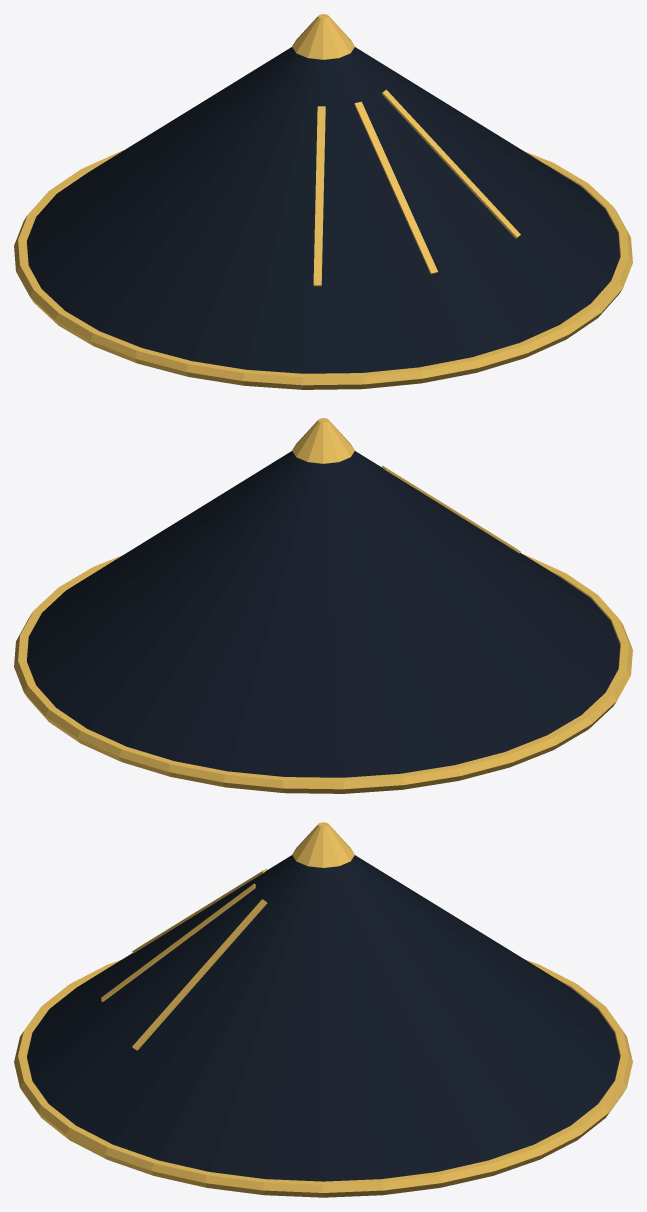
File: lacquer-non-la.glb
3 renders of one model, top to bottom at view 1: azimuth 30°, elevation 25°; view 2: azimuth 150°, elevation 25°; view 3: azimuth 270°, elevation 25°, orthographic.
Parts seen in each view (by area): view 1: lacquer-shell, gold-bound-rim, gold-crown, gold-lacquer-inlay.001, gold-lacquer-inlay, gold-lacquer-inlay.002; view 2: lacquer-shell, gold-bound-rim, gold-crown; view 3: lacquer-shell, gold-bound-rim, gold-crown, gold-lacquer-inlay.002, gold-lacquer-inlay.001.
Boxes of the visible parts, x1,y1,x2,y2 form: lacquer-shell: (27,47,619,373); gold-bound-rim: (14,150,632,389); gold-crown: (292,14,354,59); gold-lacquer-inlay.001: (354,101,437,274); gold-lacquer-inlay: (313,106,325,286); gold-lacquer-inlay.002: (381,89,520,238); lacquer-shell: (27,451,619,777); gold-bound-rim: (14,554,632,793); gold-crown: (292,418,354,463); lacquer-shell: (27,855,619,1181); gold-bound-rim: (14,960,632,1197); gold-crown: (292,822,354,867); gold-lacquer-inlay.002: (132,899,267,1050); gold-lacquer-inlay.001: (101,883,255,1001).
Size of the model in its own units: 0.688 by 0.2993 by 0.688.
